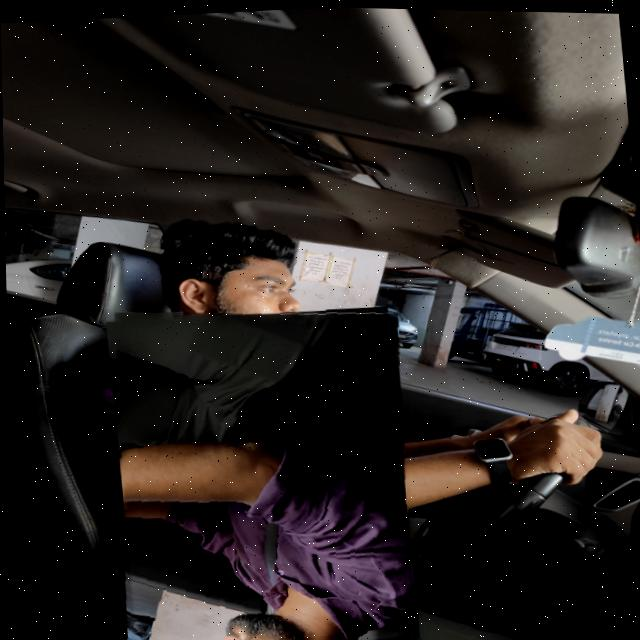seatbelt: (98, 293, 420, 640)
